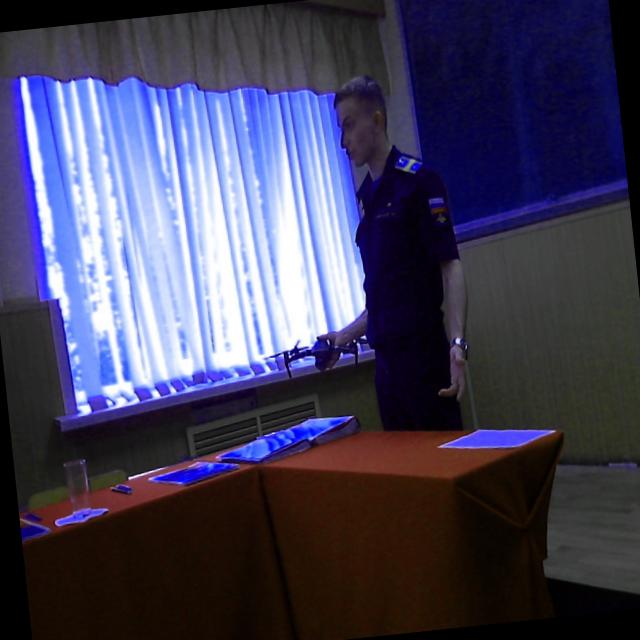drone: (264, 308, 375, 383)
